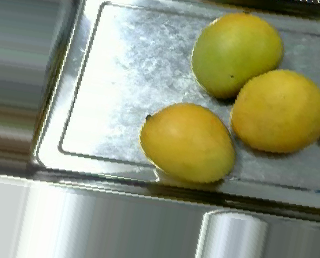Mango: (187, 10, 284, 98), (222, 71, 320, 153), (142, 98, 234, 184)
